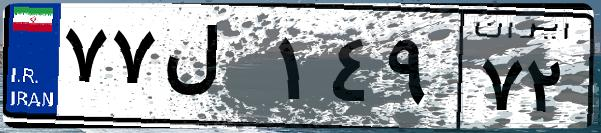1: (270, 28, 330, 110)
2: (525, 38, 570, 115)
4: (330, 28, 385, 110)
7: (57, 26, 110, 100), (475, 38, 525, 113), (110, 28, 158, 98)
9: (385, 28, 445, 110)
ل: (158, 20, 270, 120)
